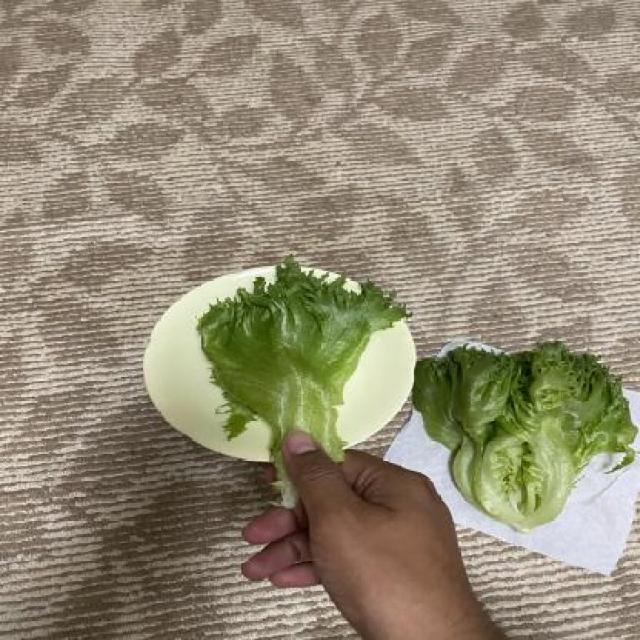Lettuce head: (189, 253, 416, 513), (413, 338, 640, 534)
